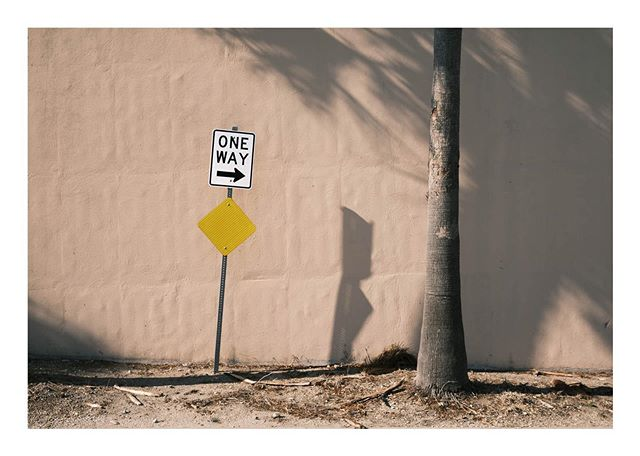sign: (197, 113, 258, 262)
tree: (411, 36, 474, 392)
wall: (37, 32, 603, 363)
